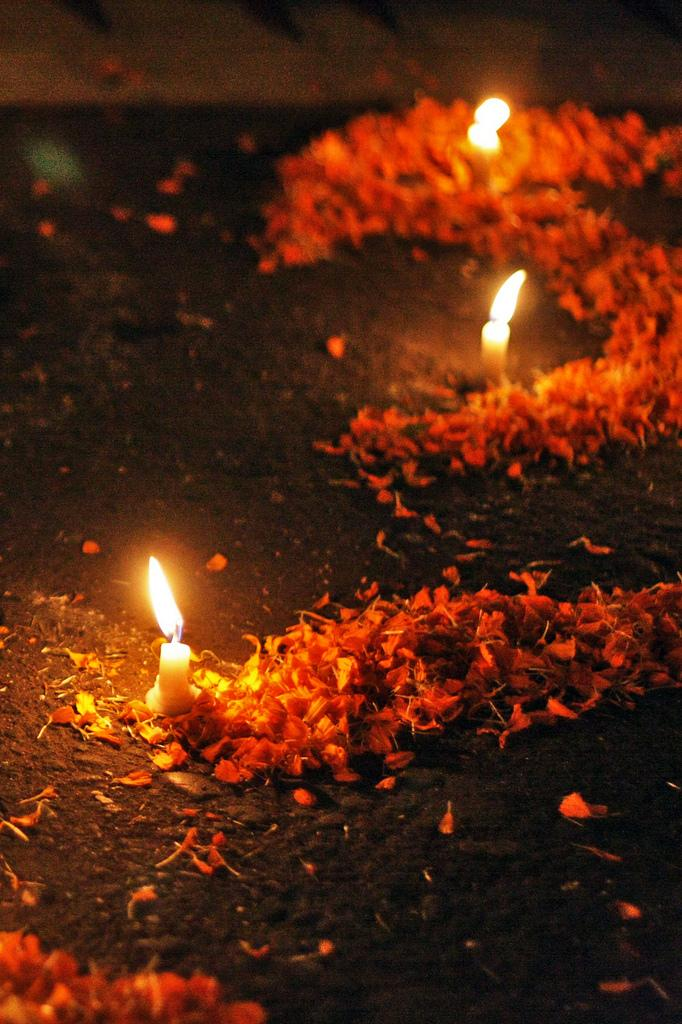fire: (130, 558, 212, 655), (468, 85, 505, 172), (488, 255, 520, 355)
